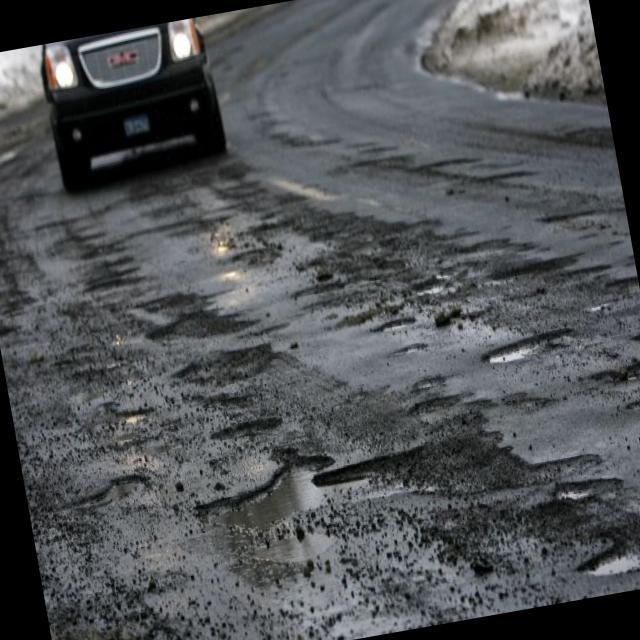Pothole: (320, 410, 600, 530), (332, 123, 556, 229), (176, 420, 374, 538), (127, 271, 288, 367), (170, 328, 314, 405), (46, 574, 210, 640), (481, 326, 608, 398), (178, 373, 286, 447), (506, 177, 626, 235), (480, 234, 600, 290), (70, 252, 178, 308), (185, 394, 287, 451), (78, 382, 158, 454), (565, 517, 640, 587), (391, 252, 473, 316), (544, 467, 630, 518), (66, 480, 163, 522), (391, 331, 464, 372), (298, 262, 360, 304), (372, 304, 442, 336), (607, 348, 640, 391), (615, 385, 640, 429)
